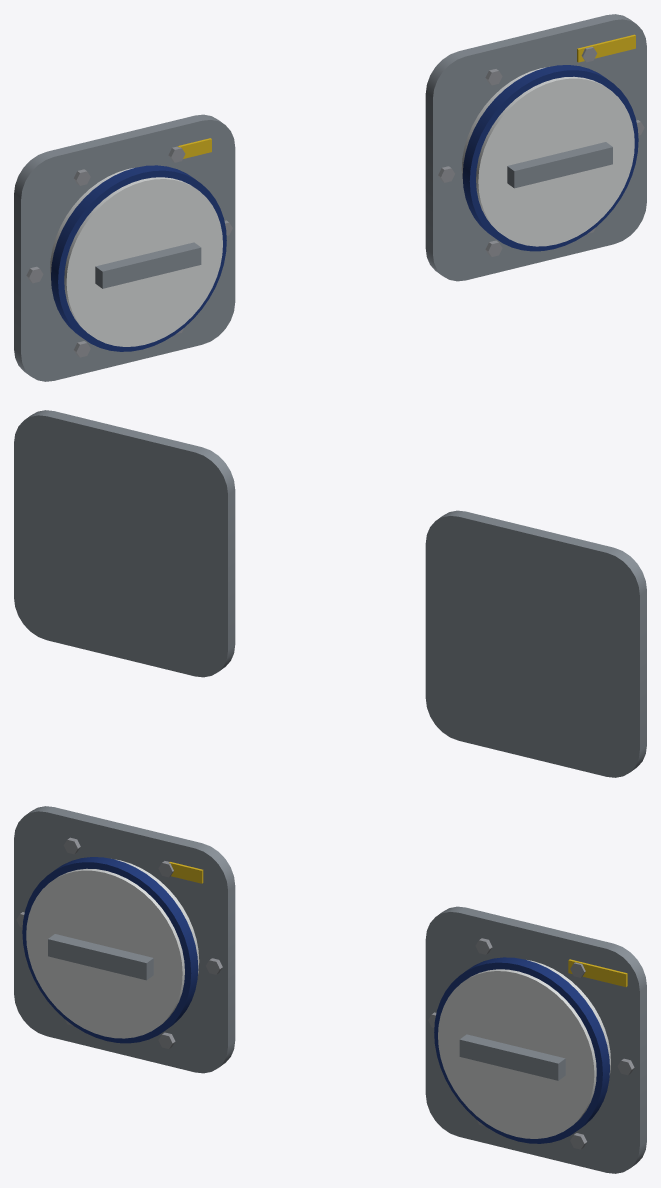
The model's file is l4_scrubber.obj.
3 renders of one model, top to bottom at view 1: azimuth 30°, elevation 25°; view 2: azimuth 150°, elevation 25°; view 3: azimuth 330°, elevation 25°, orthographic.
Parts seen in each view (by area): view 1: l4_scrubber; view 2: l4_scrubber; view 3: l4_scrubber.
Boxes of the visible parts, x1,y1,x2,y2 form: l4_scrubber: (14,14,646,381); l4_scrubber: (14,410,646,777); l4_scrubber: (14,806,646,1173).
Size of the model in its own units: 1.52 by 0.52 by 0.13.
